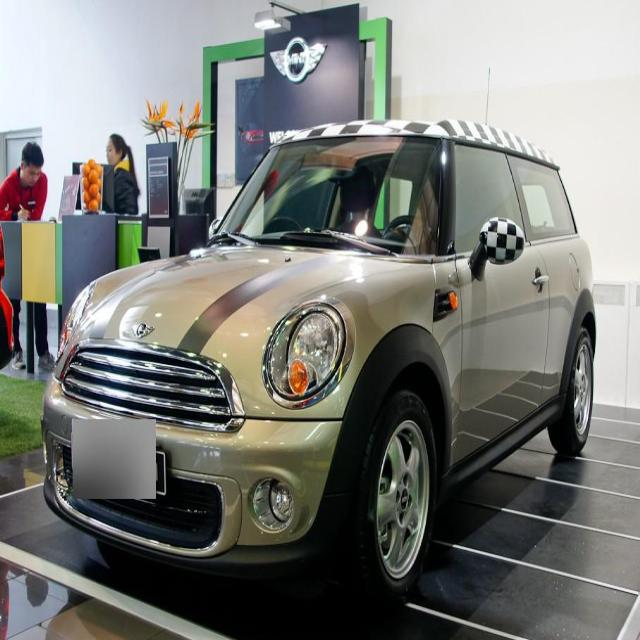front_bumper: (39, 368, 343, 563)
front_glass: (210, 131, 448, 259)
front_left_side_door: (442, 132, 553, 478)
front_left_side_light: (264, 295, 356, 407)
front_left_side_mirror: (469, 214, 525, 284)
front_right_side_light: (55, 279, 97, 367)
wheel: (346, 389, 440, 597), (546, 326, 596, 456)
